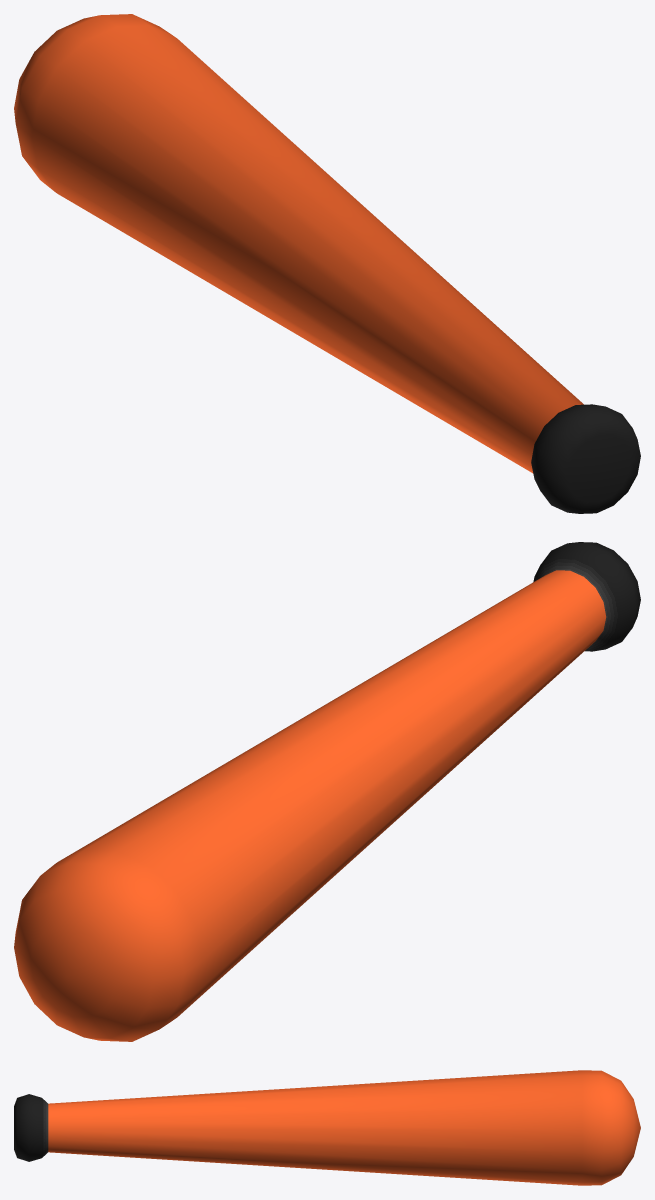
File: Bit Orange.fbx
3 views of the same model, one above another, from view 1: azimuth 30°, elevation 25°; view 2: azimuth 150°, elevation 25°; view 3: azimuth 270°, elevation 25° (orthographic). The views are drawn at different scales.
Parts seen in each view (by area): view 1: Bit Orange; view 2: Bit Orange; view 3: Bit Orange.
Boxes of the visible parts, x1,y1,x2,y2 form: Bit Orange: [14, 14, 640, 513]; Bit Orange: [14, 542, 640, 1041]; Bit Orange: [14, 1070, 640, 1185].
Bounding box in the file's own units: 32.23 × 32.23 × 175.
